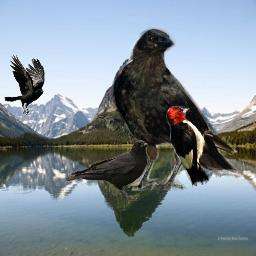Crow: (110, 27, 238, 191), (65, 140, 148, 200), (4, 54, 45, 116)
Woodpecker: (166, 106, 215, 187)
